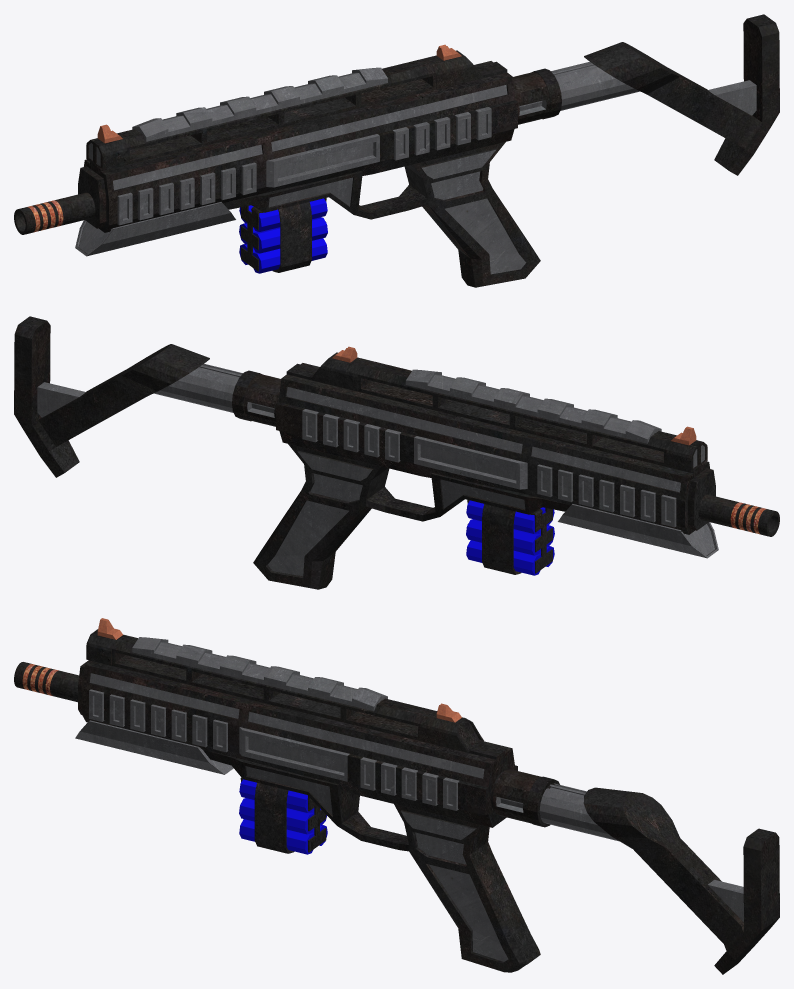
File: autorifle.fbx
3 views of the same model, one above another, from view 1: azimuth 30°, elevation 25°; view 2: azimuth 150°, elevation 25°; view 3: azimuth 330°, elevation 25° (orthographic).
Parts seen in each view (by area): view 1: Cube.001; view 2: Cube.001; view 3: Cube.001.
Part boxes in pixels (x1,y1,x2,y2): Cube.001: [14, 14, 779, 287]; Cube.001: [14, 316, 779, 589]; Cube.001: [14, 618, 779, 974].
Size of the model in its own units: 817 by 261 by 66.57.
Materials: 4 (3 with a texture image).
